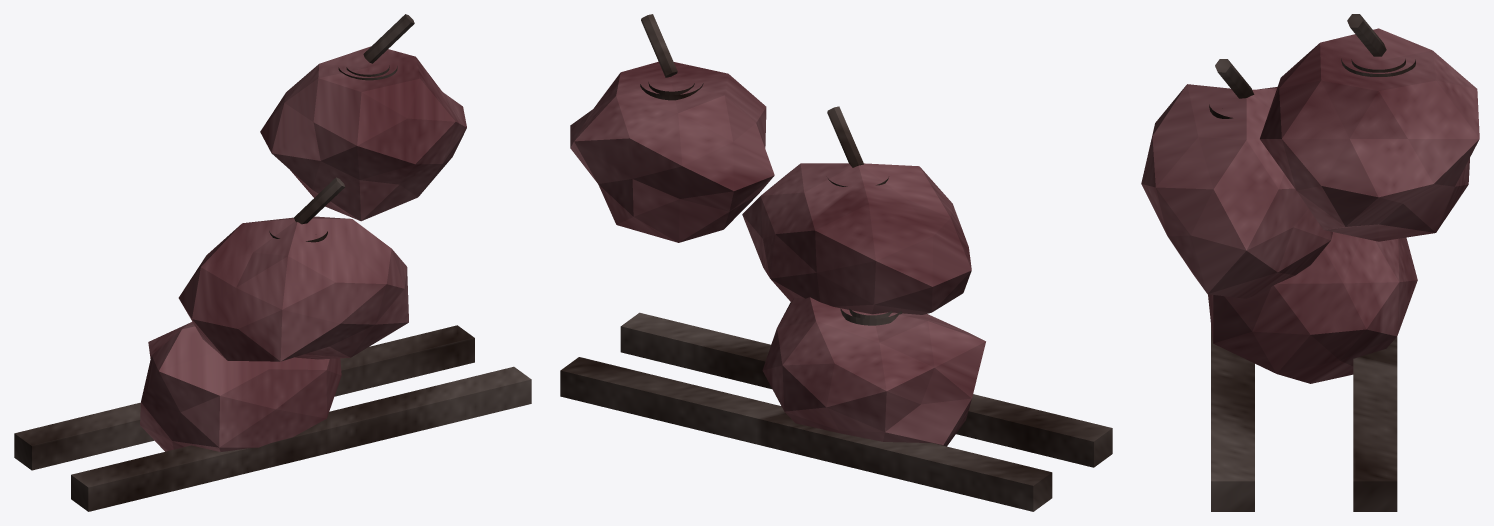
Rendered from 0822_sack_stack_22.glb.
The picture shows the model from 3 angles, left to right: view 1: azimuth 30°, elevation 25°; view 2: azimuth 150°, elevation 25°; view 3: azimuth 270°, elevation 25°; orthographic projection. The views are drawn at different scales.
Parts seen in each view (by area): view 1: cloth, wood_dark; view 2: cloth, wood_dark; view 3: cloth, wood_dark.
Boxes of the visible parts, <box> form: cloth: <box>140,46,466,451</box>; wood_dark: <box>14,14,531,511</box>; cloth: <box>570,61,985,446</box>; wood_dark: <box>560,14,1112,511</box>; cloth: <box>1141,28,1479,383</box>; wood_dark: <box>1209,14,1415,511</box>.
Size of the model in its own units: 1.9 by 1.56 by 0.9985.
Materials: 2 (2 with a texture image).
